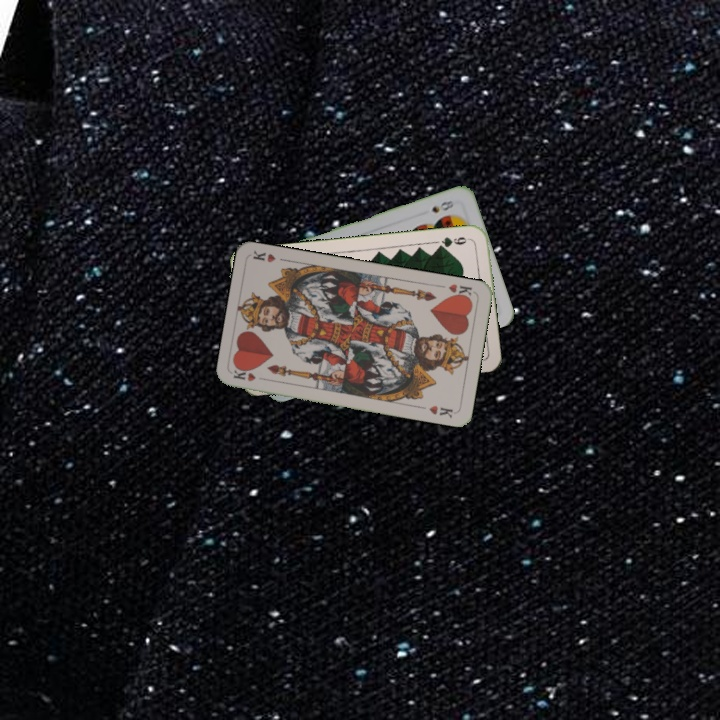G9: (434, 233, 473, 251)
HK: (230, 365, 270, 384), (445, 280, 475, 302)
S8: (428, 196, 456, 215)
